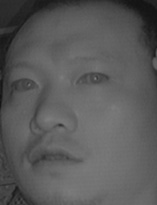eye: (75, 66, 108, 89), (10, 74, 40, 94)
mouth: (22, 138, 89, 179)
